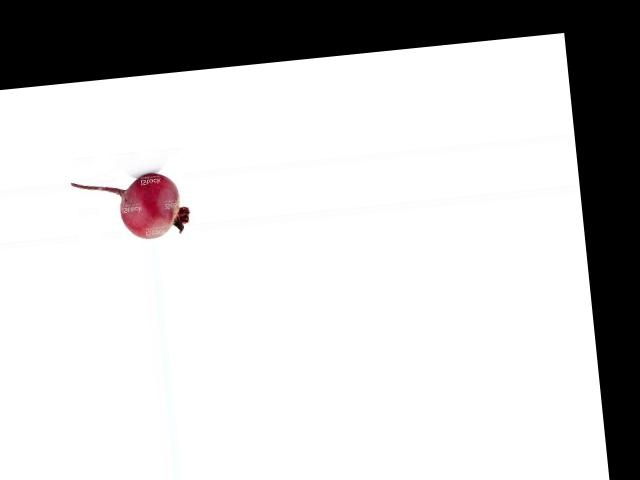beet: (71, 169, 192, 245)
